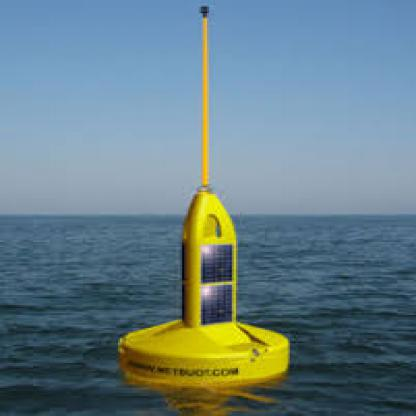buoy: (116, 0, 296, 391)
